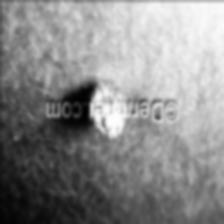Toxin: (86, 80, 124, 140)
